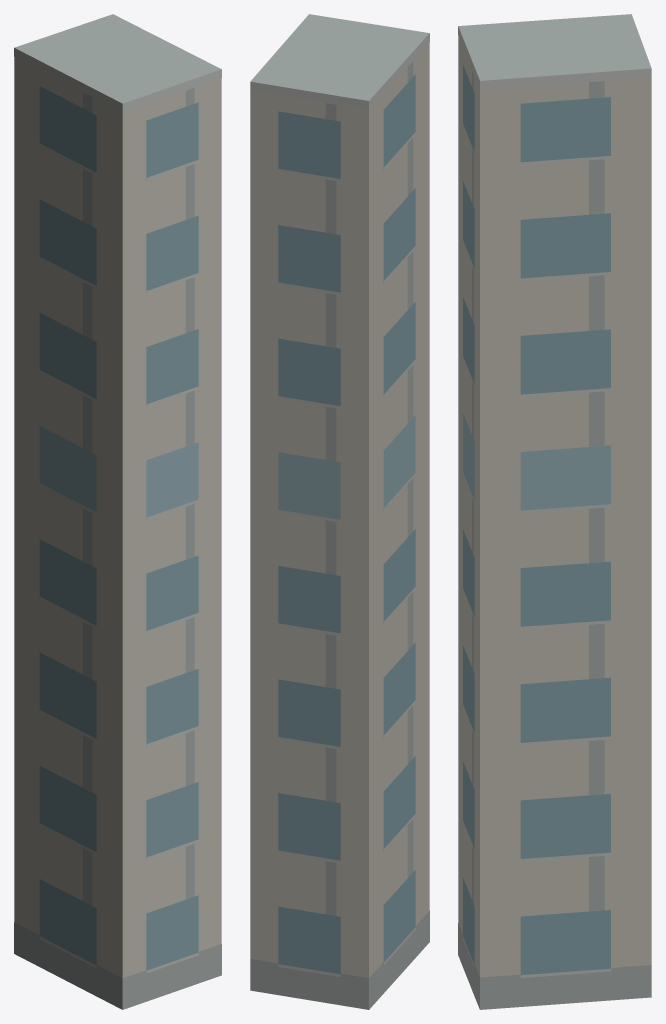
Rendered from survey-upis-32741549.glb.
3 renders of one model, left to right at view 1: azimuth 30°, elevation 25°; view 2: azimuth 150°, elevation 25°; view 3: azimuth 270°, elevation 25°, orthographic. The views are drawn at different scales.
Visible parts, largest first — view 1: survey-upis-32741549.tmp; view 2: survey-upis-32741549.tmp; view 3: survey-upis-32741549.tmp.
Boxes of the visible parts, x1,y1,x2,y2 form: survey-upis-32741549.tmp: (14,14,221,1009); survey-upis-32741549.tmp: (250,14,429,1009); survey-upis-32741549.tmp: (458,14,651,1009).
Bounding box in the file's own units: 3.77 × 24.4 × 4.61.
